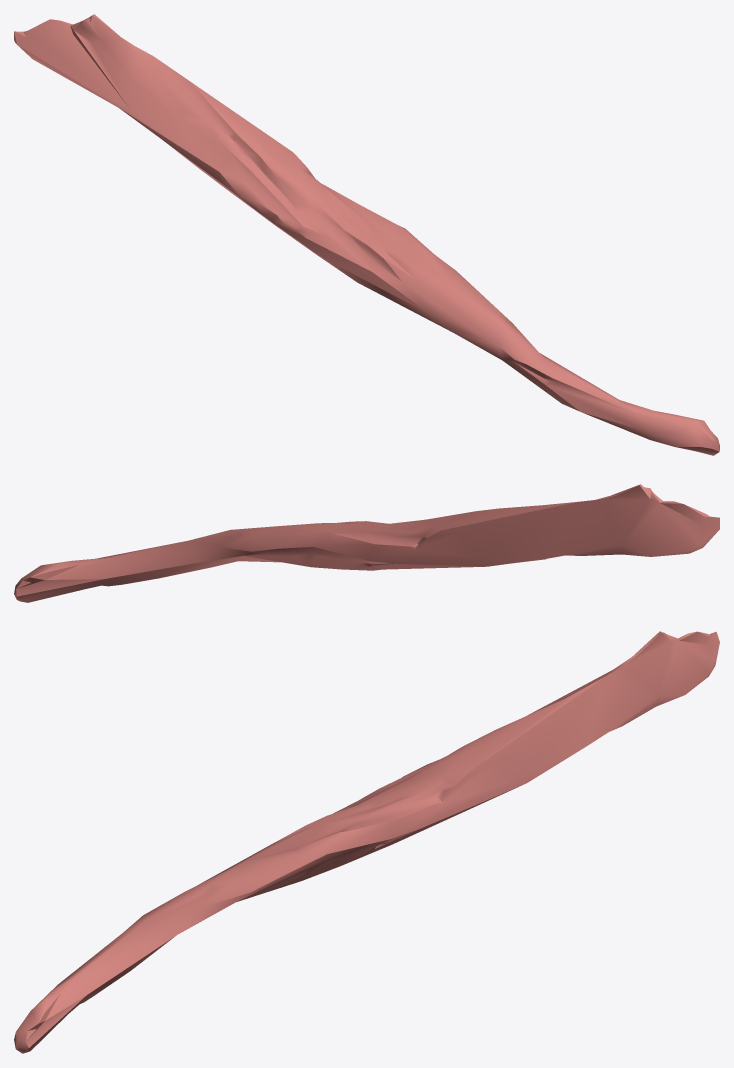
File: fma37744_fj1386m.glb
3 views of the same model, one above another, from view 1: azimuth 30°, elevation 25°; view 2: azimuth 210°, elevation 25°; view 3: azimuth 270°, elevation 25° (orthographic).
Visible parts, largest first — view 1: FMA37744_FJ1386M; view 2: FMA37744_FJ1386M; view 3: FMA37744_FJ1386M.
Boxes of the visible parts, <box> form: FMA37744_FJ1386M: <box>14,14,719,455</box>; FMA37744_FJ1386M: <box>14,484,719,602</box>; FMA37744_FJ1386M: <box>14,631,719,1053</box>.
Bounding box in the file's own units: 0.0273 × 0.0203 × 0.0468.
